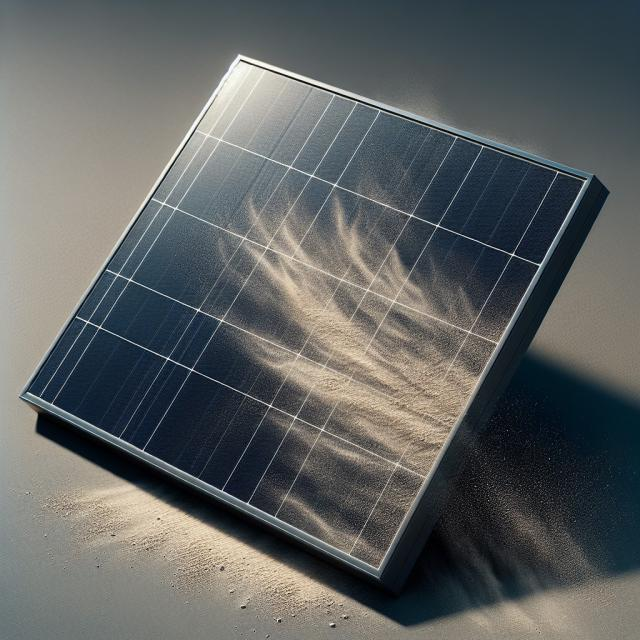Anomaly Solar Panel: (22, 0, 587, 580)
Surface Contaminant: (98, 89, 551, 568)
